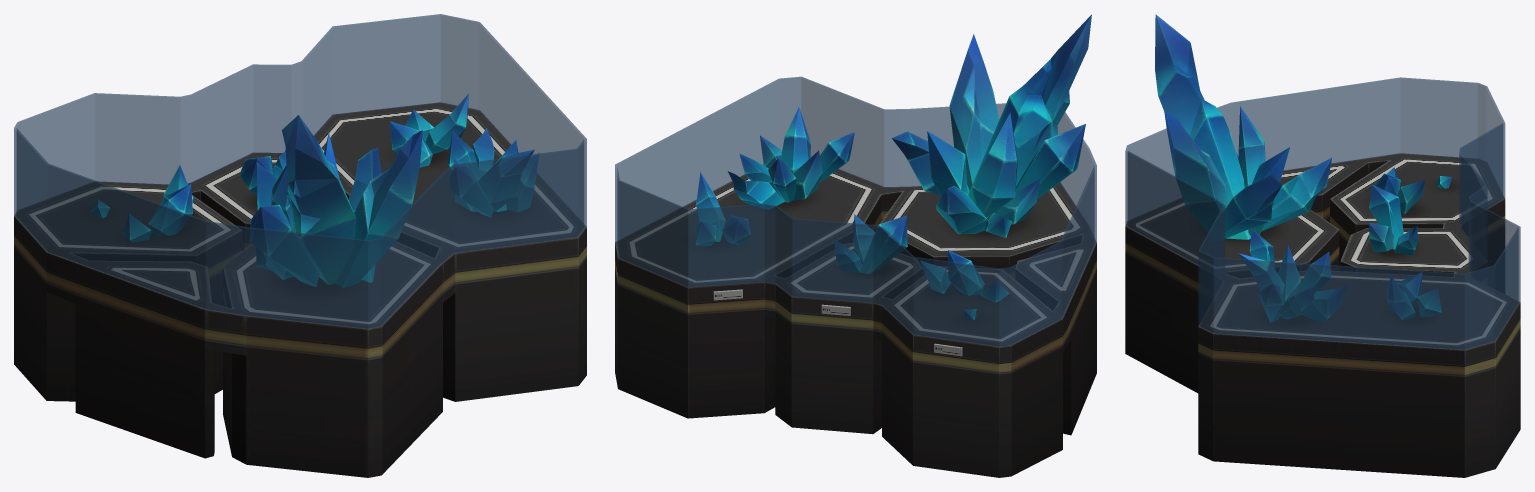
The model's file is furn_we2021_deco_001.gltf.
3 views of the same model, side by side, from view 1: azimuth 30°, elevation 25°; view 2: azimuth 150°, elevation 25°; view 3: azimuth 270°, elevation 25° (orthographic). The views are drawn at different scales.
Parts seen in each view (by area): view 1: we2021_deco_001; view 2: we2021_deco_001; view 3: we2021_deco_001.
Boxes of the visible parts, bbox=[...] form: we2021_deco_001: bbox=[14, 14, 586, 477]; we2021_deco_001: bbox=[615, 14, 1096, 477]; we2021_deco_001: bbox=[1125, 14, 1520, 477].
Size of the model in its own units: 1.09 by 0.808 by 0.9256.
Materials: 3 (3 with a texture image).
